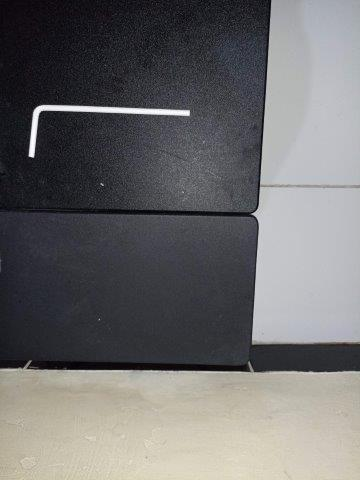sedotan: (28, 105, 190, 158)
